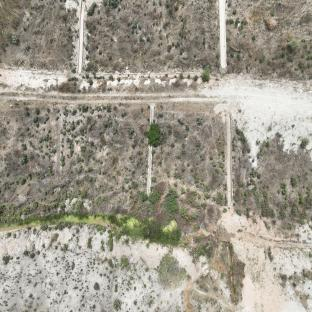slope_drain: (145, 104, 155, 196), (226, 245, 238, 307), (226, 113, 233, 210), (219, 0, 227, 68), (77, 0, 84, 73)
toe_drain: (10, 69, 261, 80), (231, 231, 312, 256)
